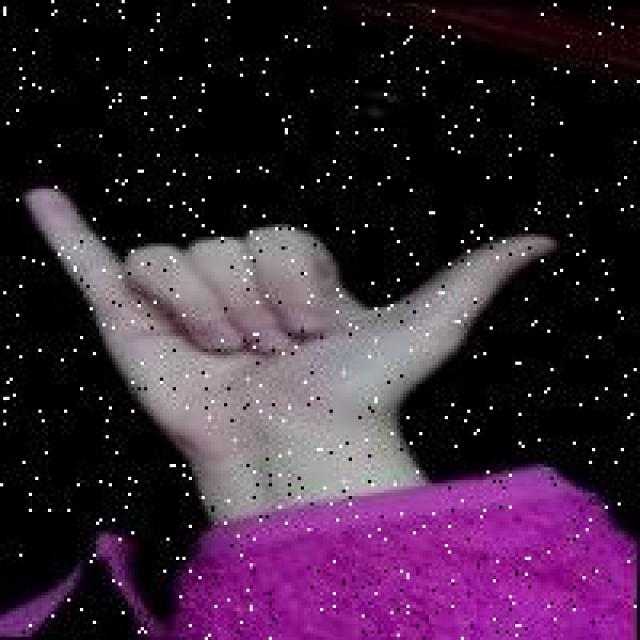Y: (8, 176, 558, 477)
